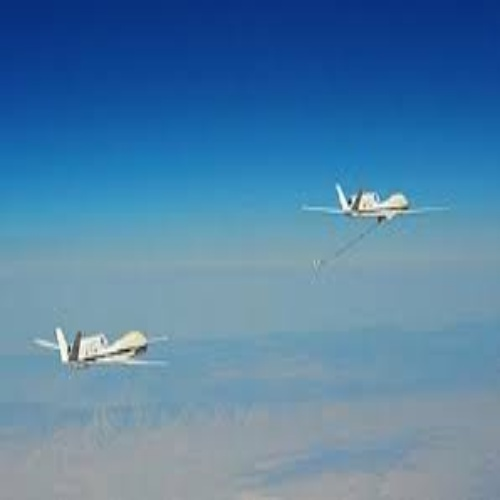uav: (295, 178, 450, 224), (31, 327, 169, 373)
